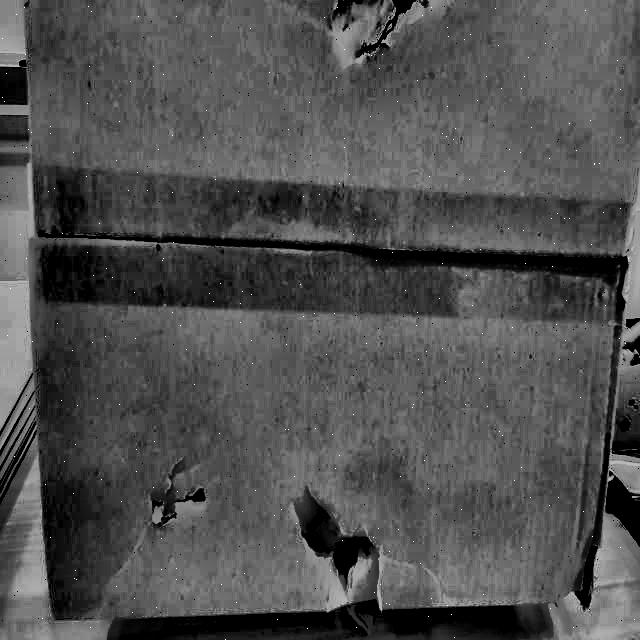box: (16, 0, 639, 627)
hole: (293, 481, 389, 607), (328, 1, 426, 60), (146, 461, 210, 531)
